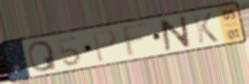5: (56, 35, 84, 68)
F: (120, 20, 150, 60)
K: (191, 11, 221, 45)
N: (158, 14, 193, 53)
P: (90, 27, 118, 64)
Q: (27, 40, 60, 74)
